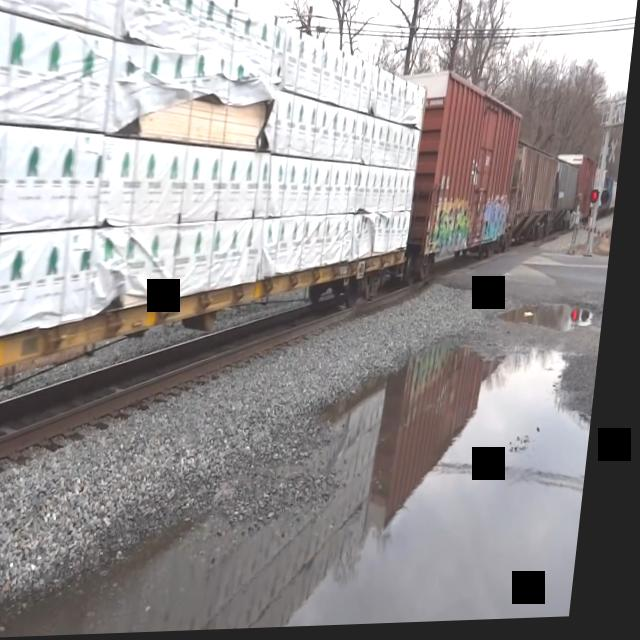boxcar: (407, 61, 528, 283)
hopper: (514, 147, 567, 252), (555, 154, 589, 234)
